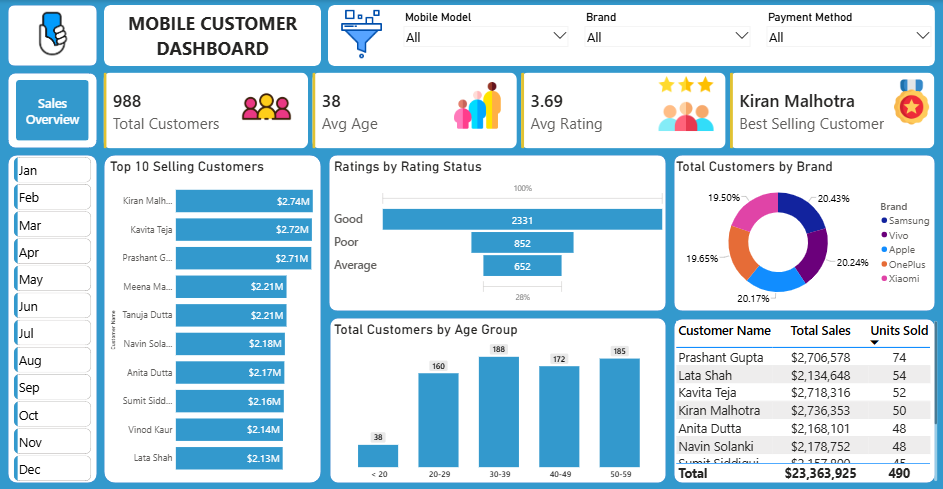

What the dashboard file says about the page in this screenshot:
{"tool":"powerbi","page":{"name":"Customer Analysis","canvas":[2500,1300],"ordinal":1},"visuals":[{"type":"cardVisual","fields":{"Data":["Customer Measures.Customers","Sales Measures.Avg Age","Customer Measures.Avg Rating","Customer Measures.Best Selling Customer"]},"box":[257.3,175.1,2241.8,236.1],"z":0},{"type":"shape","box":[870.2,13.3,1610.4,161.8],"z":1000},{"type":"shape","box":[275.9,411.2,575.7,870.2],"z":2000},{"type":"shape","box":[1788.2,411.2,692.4,413.9],"z":3000},{"type":"shape","box":[872.9,411.2,894.1,413.9],"z":4000},{"type":"shape","box":[875.5,843.7,891.4,437.8],"z":5000},{"type":"shape","box":[1788.2,846.3,692.4,435.1],"z":6000},{"type":"shape","box":[21.2,13.3,236.1,161.8],"z":7000},{"type":"funnel","title":"Ratings by Rating Status","fields":{"Category":["Sheet1.Rating Status"],"Y":["CountNonNull(Sheet1.Customer Ratings)"]},"box":[880.8,419.2,886.1,405.9],"z":8000},{"type":"barChart","title":"Top 10 Selling Customers","fields":{"Category":["Sheet1.Customer Name"],"Y":["Sales Measures.Total Sales"]},"box":[287.6,419.4,583.3,862.9],"z":9000},{"type":"slicer","fields":{"Values":["Sheet1.Mobile Model"]},"box":[1061.2,23.9,456.3,151.2],"z":10000},{"type":"slicer","fields":{"Values":["Sheet1.Brand"]},"box":[1541.4,23.9,459,151.2],"z":11000},{"type":"slicer","fields":{"Values":["Sheet1.Payment Method"]},"box":[2024.3,23.9,456.3,143.3],"z":12000},{"type":"image","box":[880.8,23.9,156.5,132.7],"z":13000},{"type":"shape","box":[275.9,13.3,575.7,161.8],"z":14000},{"type":"textbox","box":[275.9,23.9,575.7,151.2],"z":15000},{"type":"image","box":[21.2,13.3,236.1,161.8],"z":16000},{"type":"shape","box":[21.2,411.2,236.1,870.2],"z":17000},{"type":"donutChart","fields":{"Category":["Sheet1.Brand"],"Y":["Customer Measures.Total Customers"]},"box":[1788.2,419.2,692.4,405.9],"z":18000},{"type":"columnChart","title":"Total Customers by Age Group","fields":{"Category":["Sheet1.Age Group"],"Y":["Customer Measures.Total Customers"]},"box":[880.8,851.6,891.4,429.8],"z":19000},{"type":"shape","box":[21.2,193.7,236.1,199],"z":20000},{"type":"advancedSlicerVisual","fields":{"Values":["Sheet1.Month Name"]},"box":[32.3,412.2,215.5,875.5],"z":21000},{"type":"pageNavigator","box":[42.4,212.2,193.7,161.8],"z":22000},{"type":"image","box":[1727.1,201.6,185.7,145.9],"z":23000},{"type":"image","box":[615.5,193.7,183.1,177.8],"z":24000},{"type":"image","box":[1188.2,217.7,155.9,123.7],"z":25000},{"type":"image","box":[2355.9,201.6,124.7,138],"z":26000},{"type":"tableEx","title":"Top 10 Selling Customers","fields":{"Values":["Sheet1.Customer Name","Sales Measures.Total Sales","Sum(Sheet1.Units Sold)"]},"box":[1787.6,846.8,704.3,435.5],"z":27000}]}

Visuals, with their boxes in screenshot pixels (x1, y1, x2, y2), scaled from the page's 2500x1300 canvas onto the 943x489 screenshot:
cardVisual - Customer Measures.Customers x Sales Measures.Avg Age: <bbox>97, 66, 942, 155</bbox>
shape: <bbox>328, 5, 936, 66</bbox>
shape: <bbox>104, 155, 321, 482</bbox>
shape: <bbox>675, 155, 936, 310</bbox>
shape: <bbox>329, 155, 667, 310</bbox>
shape: <bbox>330, 317, 666, 482</bbox>
shape: <bbox>675, 318, 936, 482</bbox>
shape: <bbox>8, 5, 97, 66</bbox>
"Ratings by Rating Status" funnel: <bbox>332, 158, 666, 310</bbox>
"Top 10 Selling Customers" barChart: <bbox>108, 158, 329, 482</bbox>
slicer - Sheet1.Mobile Model: <bbox>400, 9, 572, 66</bbox>
slicer - Sheet1.Brand: <bbox>581, 9, 755, 66</bbox>
slicer - Sheet1.Payment Method: <bbox>764, 9, 936, 63</bbox>
image: <bbox>332, 9, 391, 59</bbox>
shape: <bbox>104, 5, 321, 66</bbox>
textbox: <bbox>104, 9, 321, 66</bbox>
image: <bbox>8, 5, 97, 66</bbox>
shape: <bbox>8, 155, 97, 482</bbox>
donutChart - Sheet1.Brand x Customer Measures.Total Customers: <bbox>675, 158, 936, 310</bbox>
"Total Customers by Age Group" columnChart: <bbox>332, 320, 668, 482</bbox>
shape: <bbox>8, 73, 97, 148</bbox>
advancedSlicerVisual - Sheet1.Month Name: <bbox>12, 155, 93, 484</bbox>
pageNavigator: <bbox>16, 80, 89, 141</bbox>
image: <bbox>651, 76, 722, 131</bbox>
image: <bbox>232, 73, 301, 140</bbox>
image: <bbox>448, 82, 507, 128</bbox>
image: <bbox>889, 76, 936, 128</bbox>
"Top 10 Selling Customers" tableEx: <bbox>674, 319, 940, 482</bbox>
